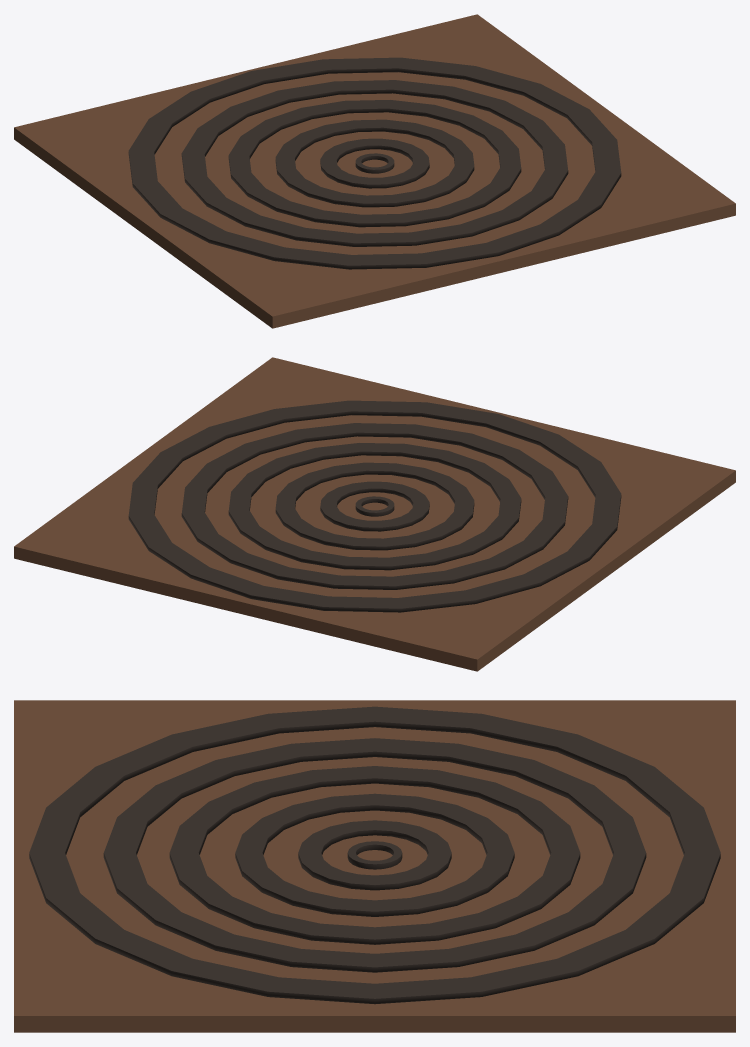
The model's file is L2_floor.fbx.
3 views of the same model, one above another, from view 1: azimuth 30°, elevation 25°; view 2: azimuth 150°, elevation 25°; view 3: azimuth 270°, elevation 25° (orthographic). The views are drawn at different scales.
Parts seen in each view (by area): view 1: L2_floor; view 2: L2_floor; view 3: L2_floor.
Part boxes in pixels (left/top/right/bottom): L2_floor: left=14, top=14, right=735, bottom=328; L2_floor: left=14, top=357, right=735, bottom=671; L2_floor: left=14, top=700, right=735, bottom=1032.
Bounding box in the file's own units: 103 × 3.39 × 99.95.
